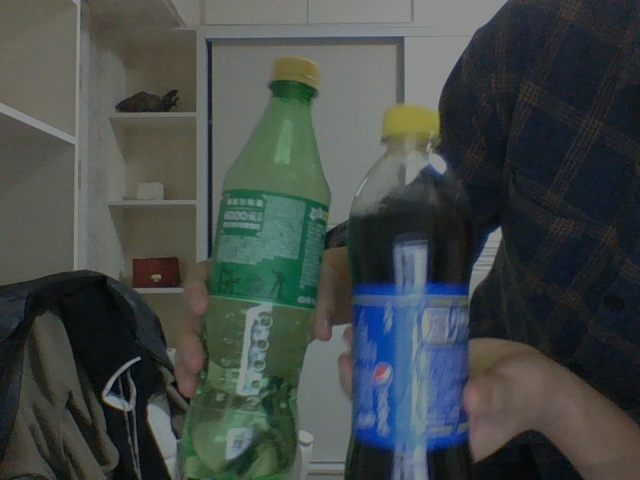Cola: (346, 105, 475, 477)
Sprite: (177, 54, 330, 478)
